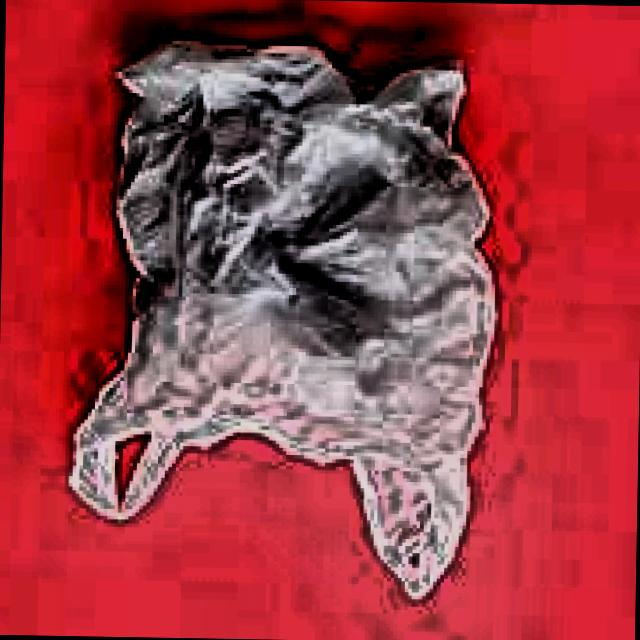plastic bag: (70, 42, 495, 599)
